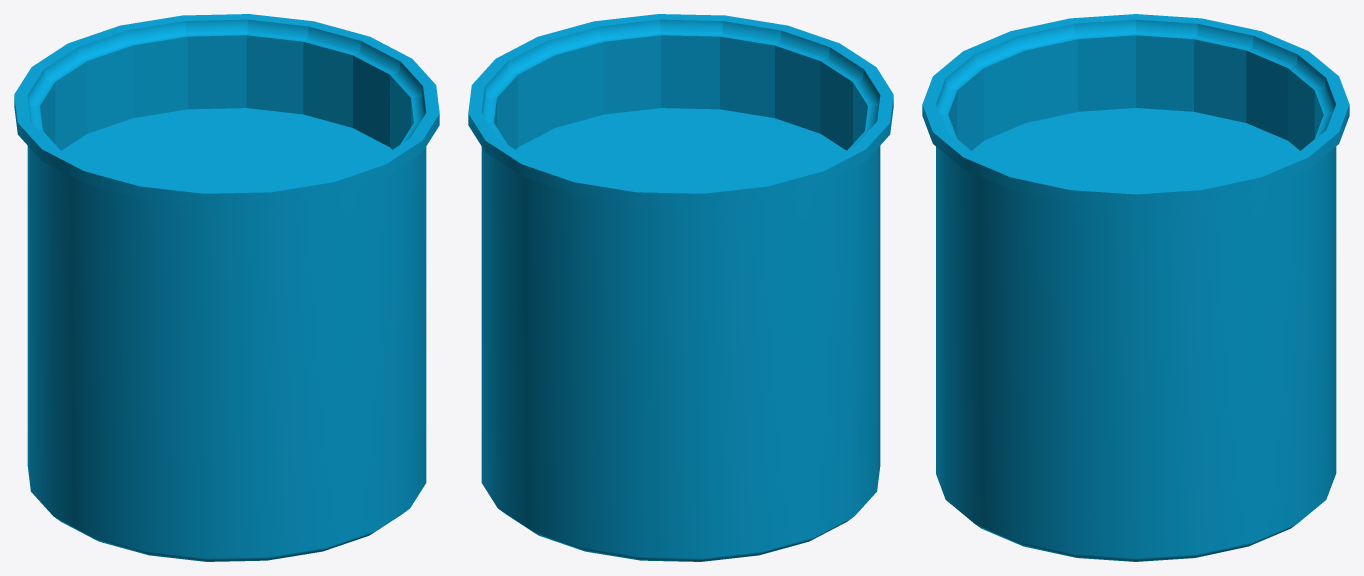
Rendered from Paint_Bucket_04_Lod0.fbx.
The picture shows the model from 3 angles, left to right: view 1: azimuth 30°, elevation 25°; view 2: azimuth 150°, elevation 25°; view 3: azimuth 270°, elevation 25°; orthographic projection.
Visible parts, largest first — view 1: Paint_Bucket_04_Lod0; view 2: Paint_Bucket_04_Lod0; view 3: Paint_Bucket_04_Lod0.
Part boxes in pixels (box(x1,y1,x2,y2)): Paint_Bucket_04_Lod0: box(14, 14, 439, 561); Paint_Bucket_04_Lod0: box(468, 14, 893, 561); Paint_Bucket_04_Lod0: box(922, 14, 1349, 561).
Size of the model in its own units: 25.16 by 24.5 by 25.17.
